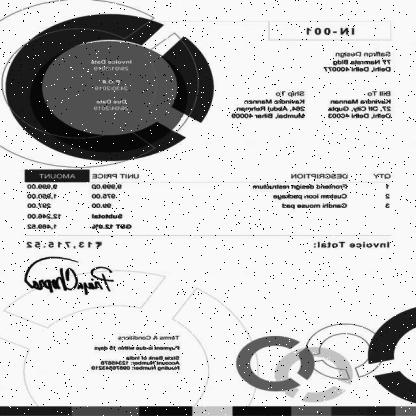Paragraph: (21, 238, 394, 250), (88, 332, 183, 374), (89, 58, 135, 112), (230, 89, 308, 120), (326, 90, 394, 119), (323, 50, 394, 74), (304, 25, 356, 37)
Table: (23, 170, 399, 236)
